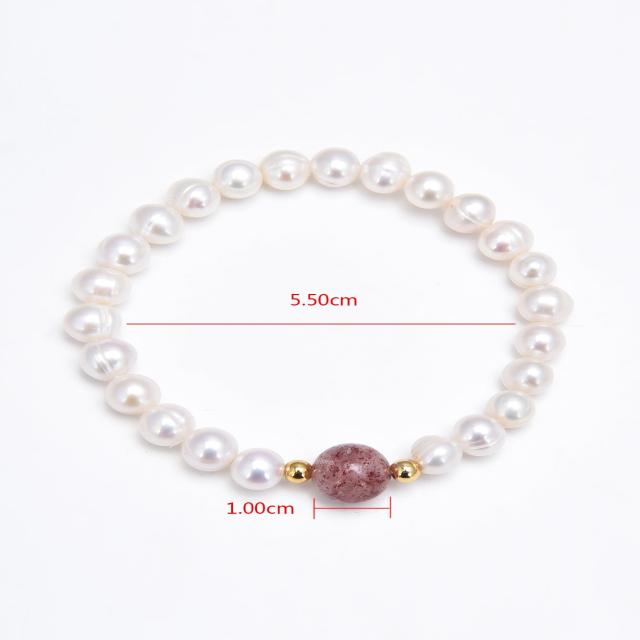bracelet: (32, 109, 640, 546)
